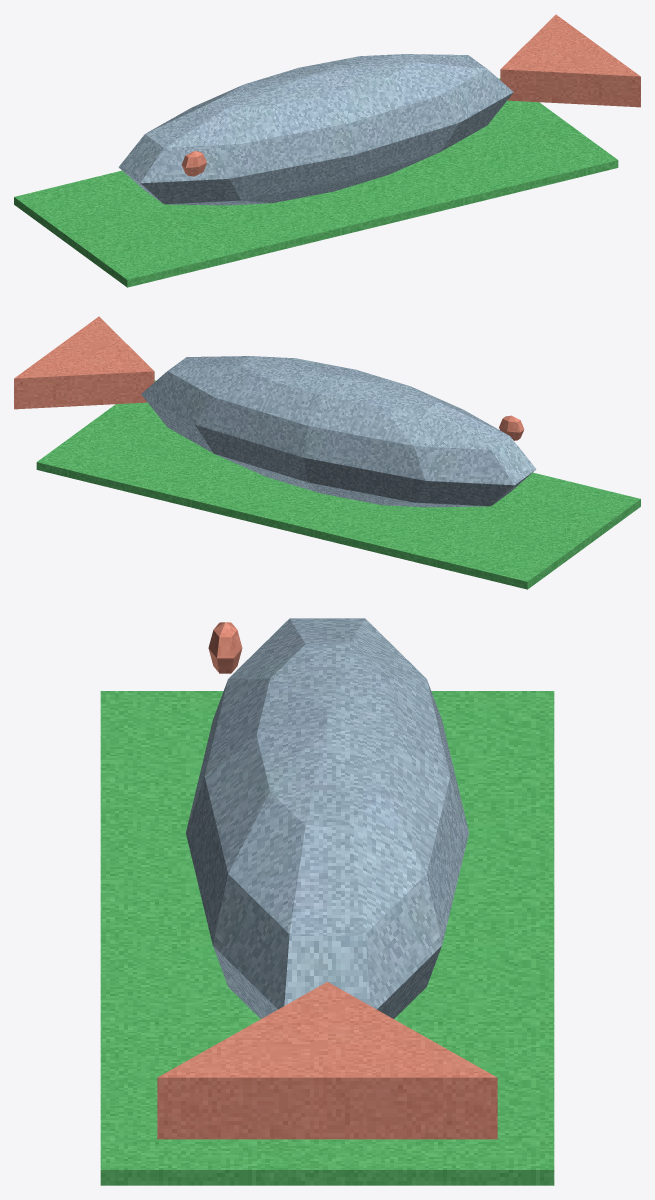
The picture shows the model from 3 angles, top to bottom: view 1: azimuth 30°, elevation 25°; view 2: azimuth 150°, elevation 25°; view 3: azimuth 270°, elevation 25°; orthographic projection. The views are drawn at different scales.
Parts seen in each view (by area): view 1: fish_raw; view 2: fish_raw; view 3: fish_raw.
Part boxes in pixels (x1,y1,x2,y2): fish_raw: (14, 14, 640, 287); fish_raw: (14, 316, 640, 589); fish_raw: (100, 618, 554, 1185).
Size of the model in its own units: 0.215 by 0.044 by 0.08.
3 materials, 3 textured.
